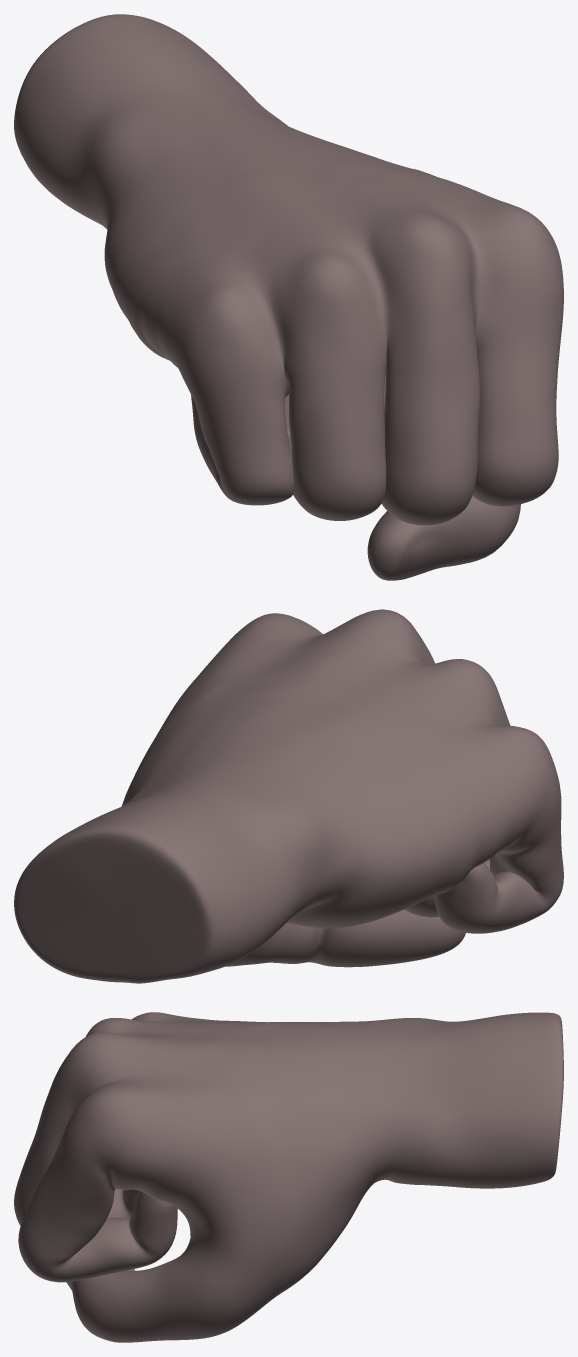
File: Rock.glb
3 views of the same model, one above another, from view 1: azimuth 30°, elevation 25°; view 2: azimuth 150°, elevation 25°; view 3: azimuth 270°, elevation 25° (orthographic). The views are drawn at different scales.
Parts seen in each view (by area): view 1: node_id83; view 2: node_id83; view 3: node_id83.
Part boxes in pixels (x1,y1,x2,y2): node_id83: (14,14,563,580); node_id83: (14,609,563,983); node_id83: (14,1012,563,1342).
Size of the model in its own units: 0.512 by 0.4783 by 0.8424.
1 material, 1 textured.
